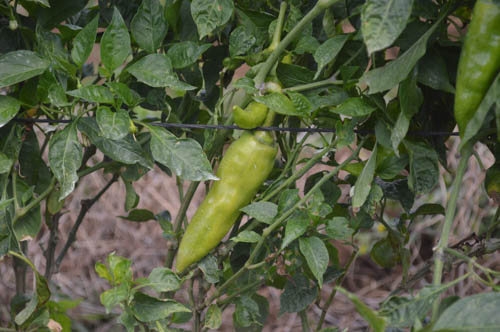ChiliPepper: (170, 134, 278, 269), (455, 7, 496, 132), (231, 87, 274, 130)
